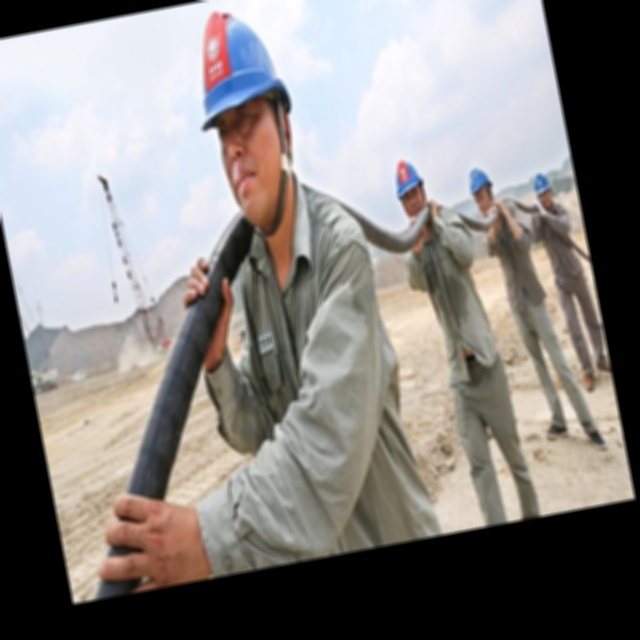Con_Casco: (183, 2, 304, 224), (391, 155, 429, 225), (467, 165, 497, 218)
